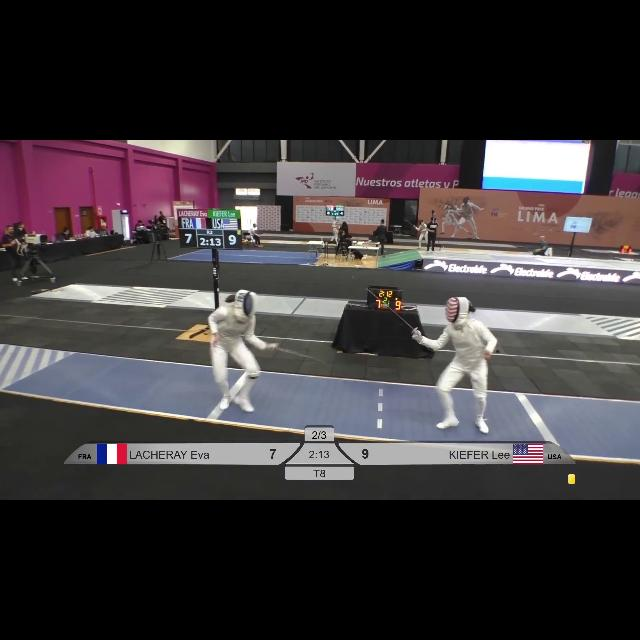blade: (350, 274, 420, 336), (274, 340, 328, 366)
